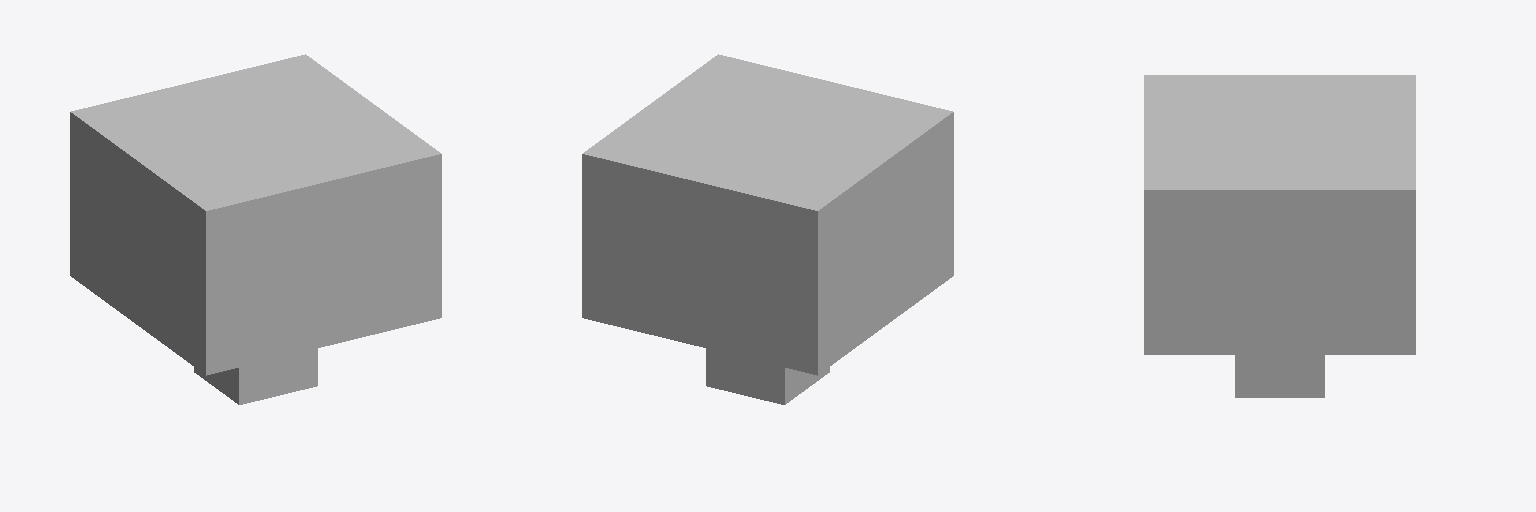
File: redMushrooms2-0.obj
3 renders of one model, left to right at view 1: azimuth 30°, elevation 25°; view 2: azimuth 150°, elevation 25°; view 3: azimuth 270°, elevation 25°, orthographic.
Parts seen in each view (by area): view 1: object 1; view 2: object 1; view 3: object 1.
Boxes of the visible parts, x1=… form: object 1: x1=70, y1=54, x2=441, y2=404; object 1: x1=582, y1=54, x2=953, y2=404; object 1: x1=1144, y1=75, x2=1415, y2=397.
Bounding box in the file's own units: 0.3 × 0.3 × 0.3.